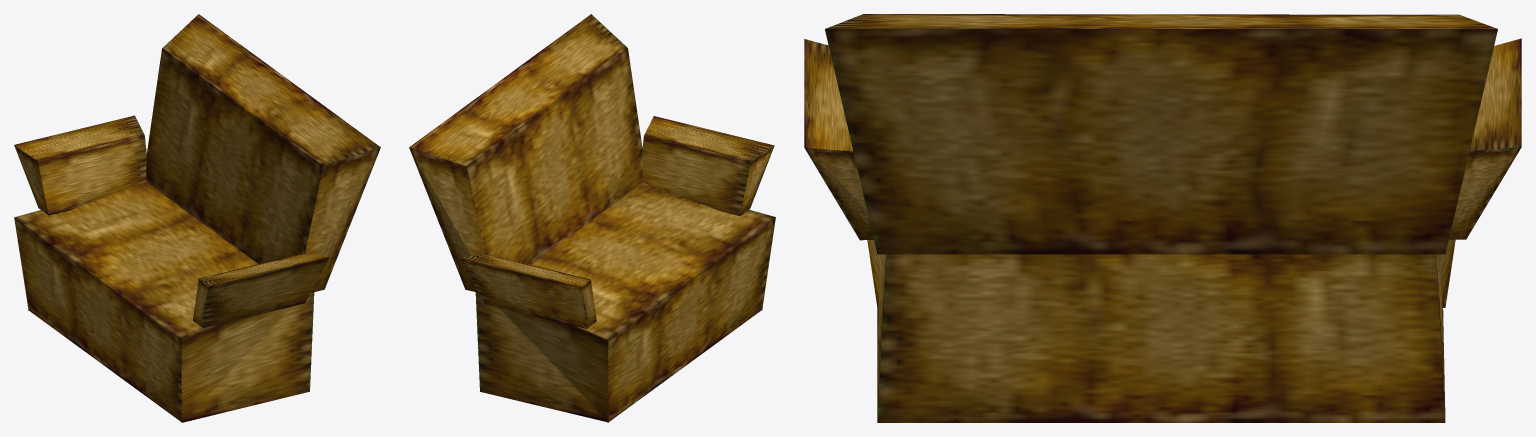
The model's file is Couch[Greißler]_1755.glb.
3 renders of one model, left to right at view 1: azimuth 30°, elevation 25°; view 2: azimuth 150°, elevation 25°; view 3: azimuth 270°, elevation 25°, orthographic. The views are drawn at different scales.
Parts seen in each view (by area): view 1: pPlaneShape10, pPlaneShape4, pPlaneShape5, pPlaneShape2, pPlaneShape9, pPlaneShape20, pPlaneShape7, pPlaneShape13, pPlaneShape19, pPlaneShape14, pPlaneShape16, pPlaneShape12; view 2: pPlaneShape10, pPlaneShape4, pPlaneShape5, pPlaneShape1, pPlaneShape9, pPlaneShape15, pPlaneShape6, pPlaneShape18, pPlaneShape14, pPlaneShape19, pPlaneShape12, pPlaneShape16; view 3: pPlaneShape8, pPlaneShape3, pPlaneShape9, pPlaneShape19, pPlaneShape14, pPlaneShape17, pPlaneShape11, pPlaneShape2, pPlaneShape1.
Boxes of the visible parts, <box> form: pPlaneShape10: <box>146,48,323,263</box>; pPlaneShape4: <box>14,182,257,339</box>; pPlaneShape5: <box>14,218,182,421</box>; pPlaneShape2: <box>181,292,314,422</box>; pPlaneShape9: <box>162,14,380,165</box>; pPlaneShape20: <box>38,135,146,215</box>; pPlaneShape7: <box>305,147,380,292</box>; pPlaneShape13: <box>203,257,329,327</box>; pPlaneShape19: <box>14,115,144,161</box>; pPlaneShape14: <box>199,252,328,286</box>; pPlaneShape16: <box>14,145,48,214</box>; pPlaneShape12: <box>193,279,208,327</box>; pPlaneShape10: <box>466,48,642,264</box>; pPlaneShape4: <box>531,182,775,339</box>; pPlaneShape5: <box>607,217,775,422</box>; pPlaneShape1: <box>475,292,608,422</box>; pPlaneShape9: <box>409,14,627,166</box>; pPlaneShape15: <box>642,136,750,215</box>; pPlaneShape6: <box>409,147,485,292</box>; pPlaneShape18: <box>460,258,586,328</box>; pPlaneShape14: <box>644,116,774,161</box>; pPlaneShape19: <box>460,253,590,287</box>; pPlaneShape12: <box>740,146,774,215</box>; pPlaneShape16: <box>581,280,596,328</box>; pPlaneShape8: <box>825,29,1497,254</box>; pPlaneShape3: <box>877,254,1445,422</box>; pPlaneShape9: <box>825,14,1497,28</box>; pPlaneShape19: <box>1469,38,1521,150</box>; pPlaneShape14: <box>804,39,852,151</box>; pPlaneShape17: <box>1449,147,1521,239</box>; pPlaneShape11: <box>804,148,873,240</box>; pPlaneShape2: <box>867,240,886,420</box>; pPlaneShape1: <box>1436,239,1453,416</box>.
Bounding box in the file's own units: 0.1489 × 0.1787 × 0.261.
Materials: 20 (20 with a texture image).
